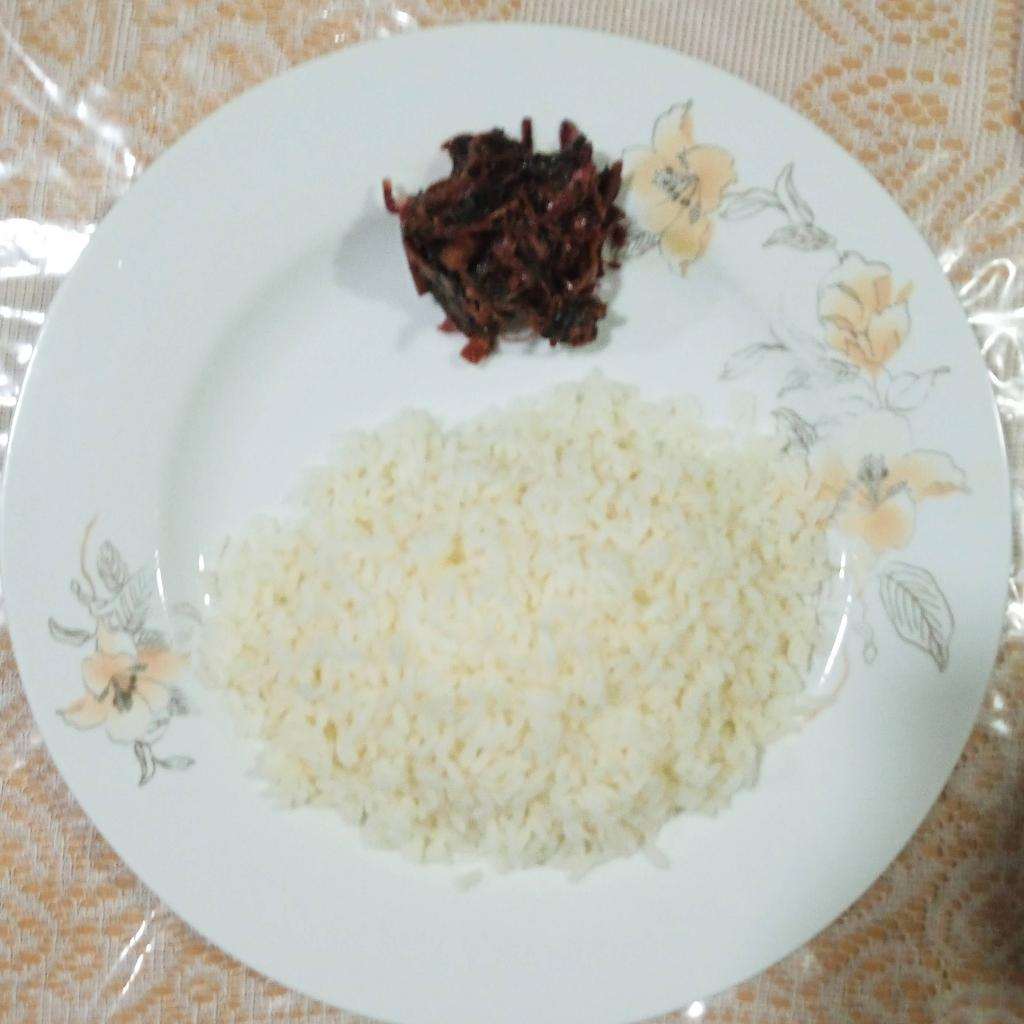rice: (210, 375, 837, 879)
shak: (383, 121, 635, 360)
